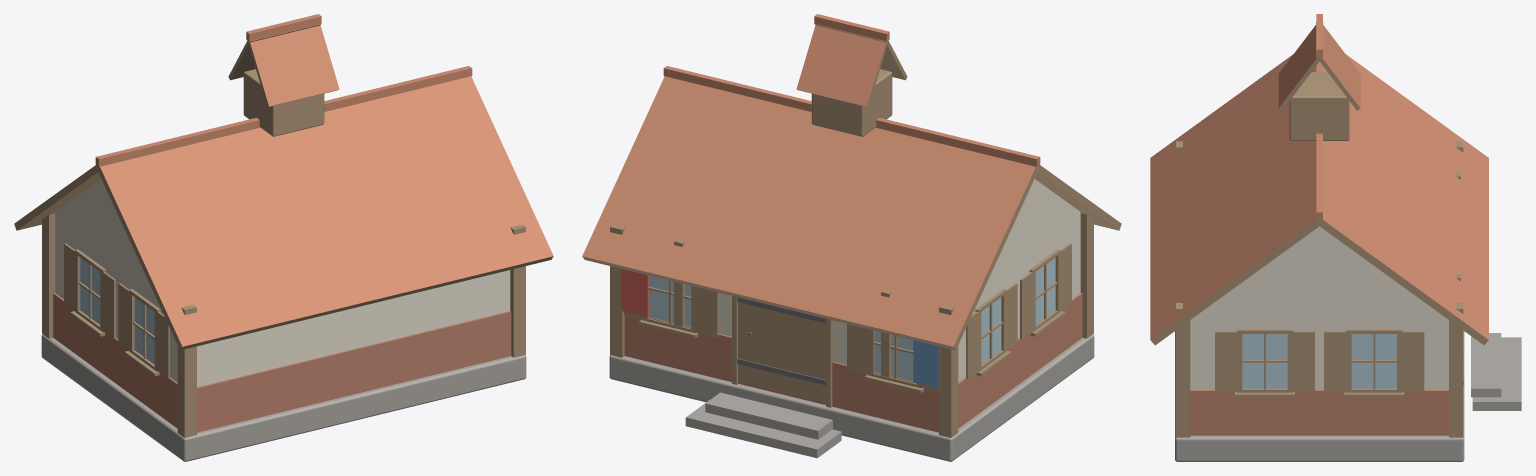
File: community_hall.glb
3 views of the same model, side by side, from view 1: azimuth 30°, elevation 25°; view 2: azimuth 150°, elevation 25°; view 3: azimuth 270°, elevation 25° (orthographic).
Visible parts, largest first — view 1: CommunityHall; view 2: CommunityHall; view 3: CommunityHall.
Part boxes in pixels (bbox=[...]): CommunityHall: bbox=[14, 14, 553, 461]; CommunityHall: bbox=[582, 14, 1121, 461]; CommunityHall: bbox=[1150, 14, 1521, 461].
Size of the model in its own units: 7.94 by 7.01 by 6.8.
